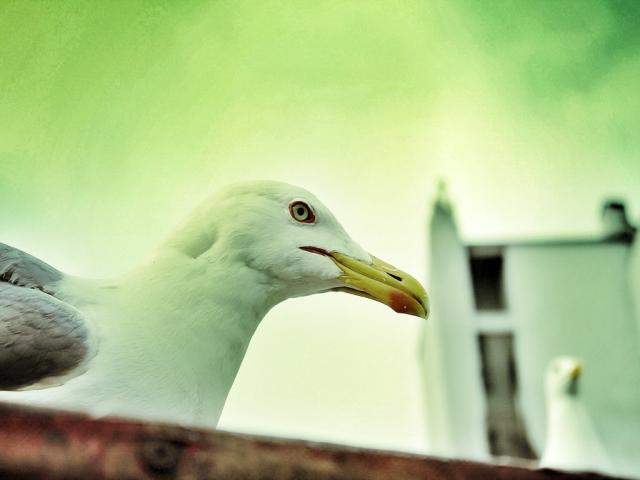Bird: (0, 177, 430, 429), (532, 349, 614, 478)
